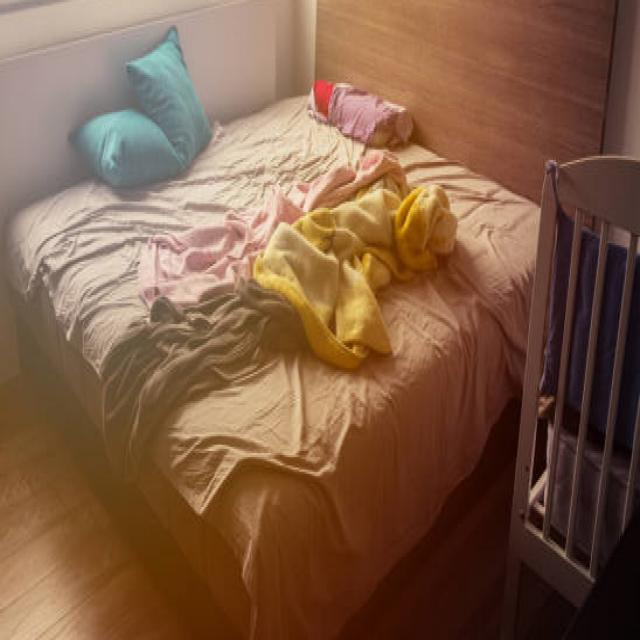bed: (8, 41, 536, 516)
